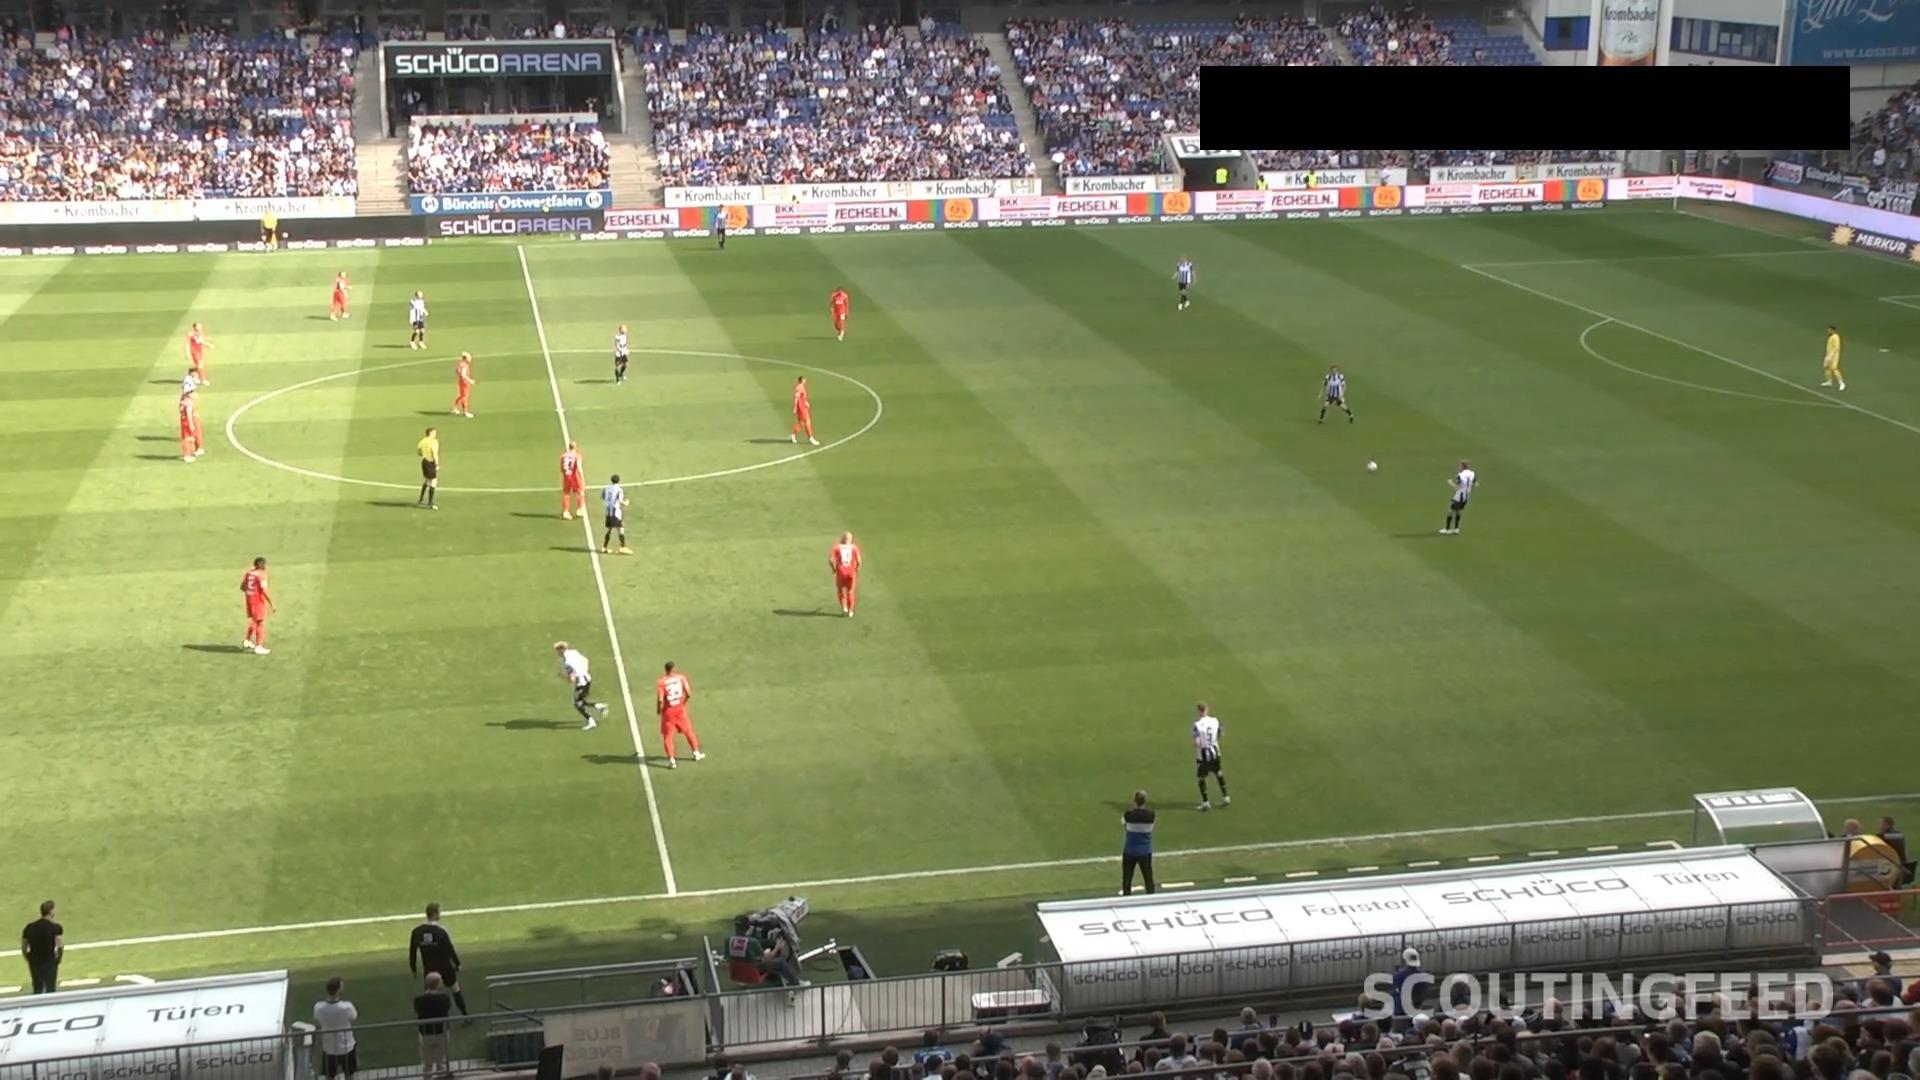ball: (1366, 459, 1379, 473)
